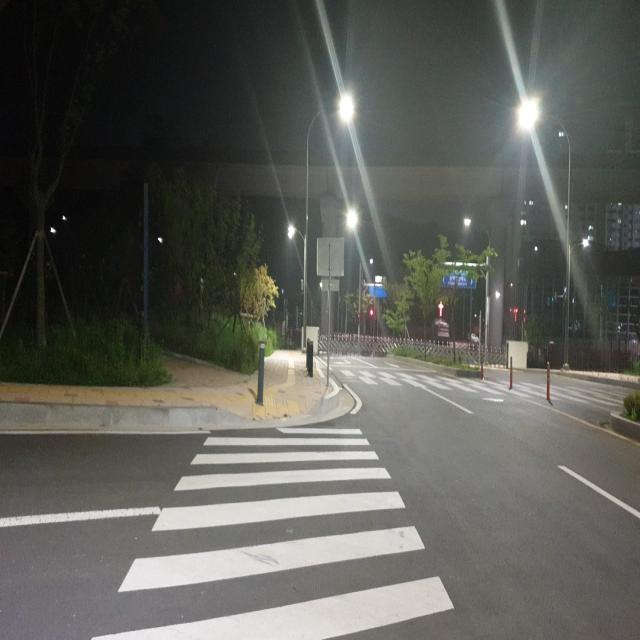횡단보도: (88, 419, 456, 640), (341, 352, 640, 407)
